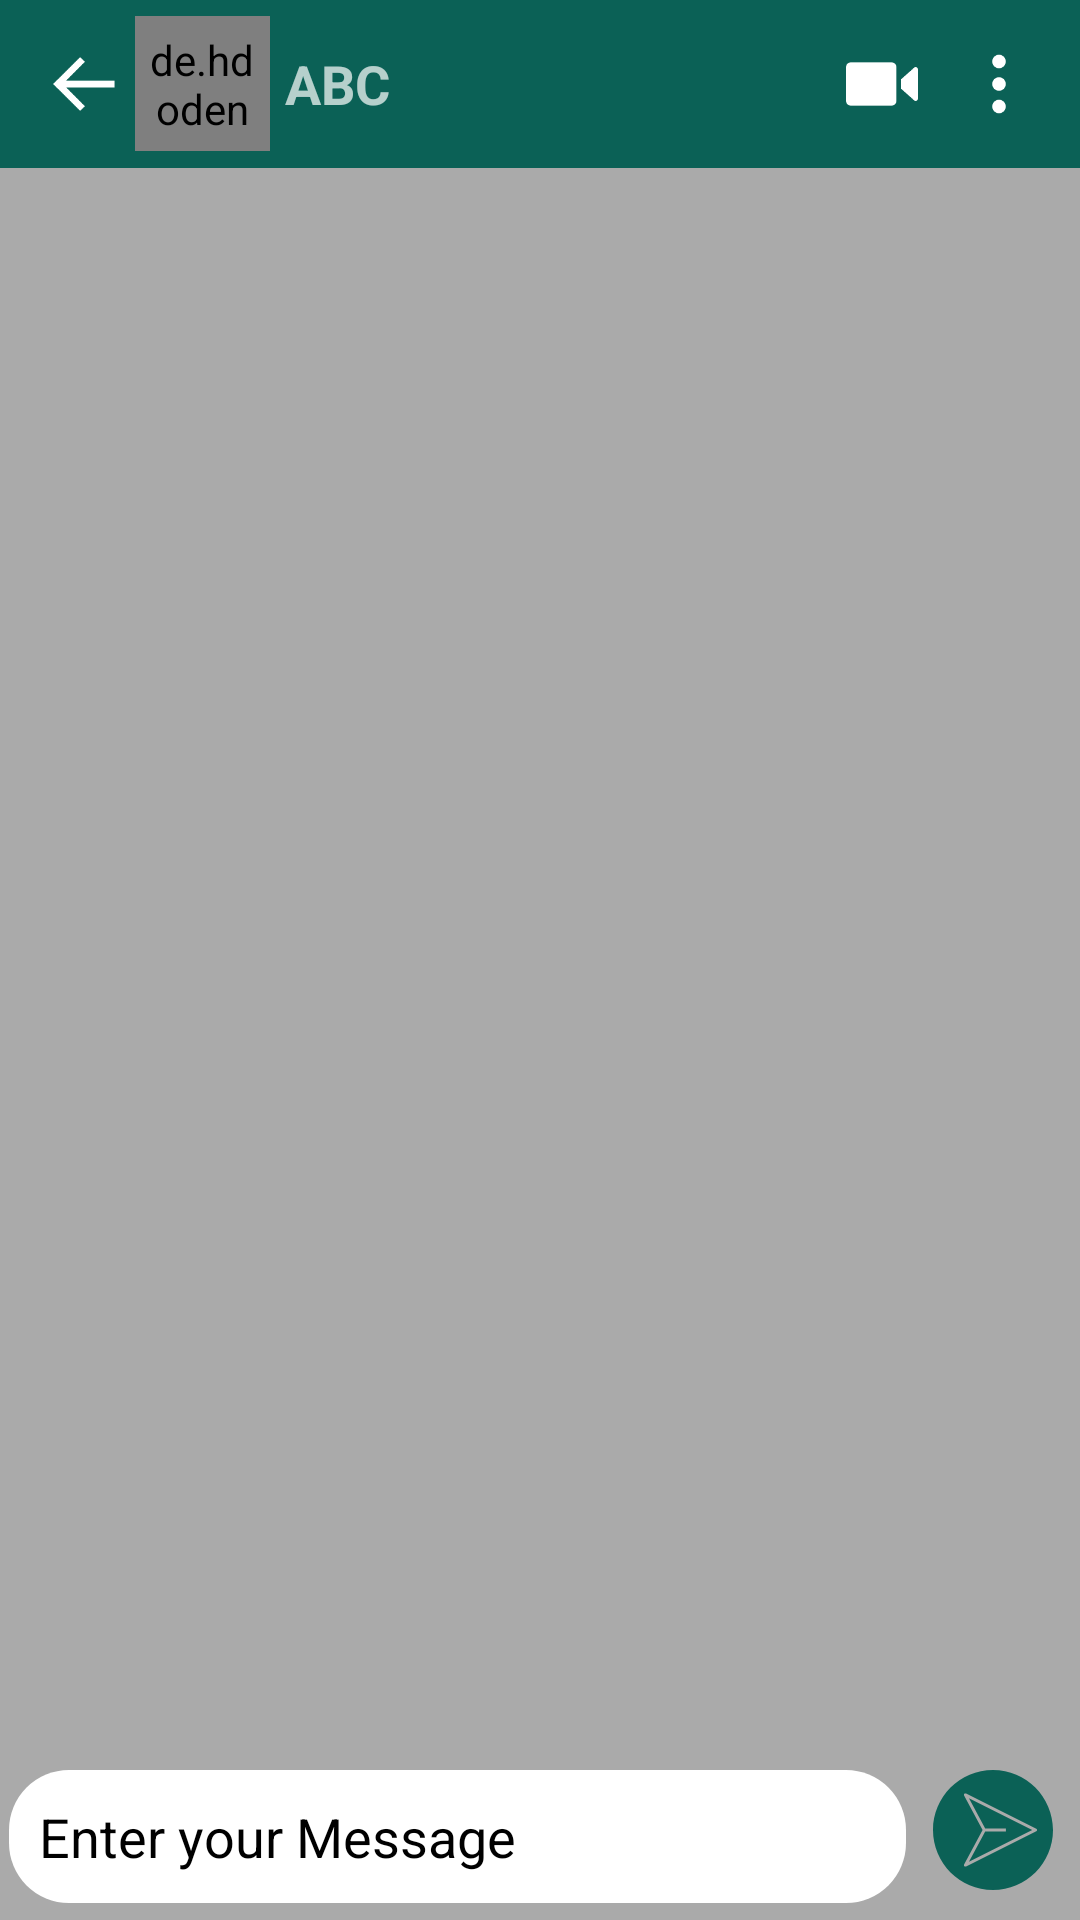

Named icons in this screenshot (1080w x 1920h) and their bounding boxes, {"left": x1, "top": y1, "right": x2, "bottom": y2}:
left arrow: {"left": 53, "top": 57, "right": 115, "bottom": 111}
menu: {"left": 992, "top": 54, "right": 1006, "bottom": 114}
send: {"left": 933, "top": 1770, "right": 1053, "bottom": 1890}
video call: {"left": 846, "top": 62, "right": 918, "bottom": 106}
